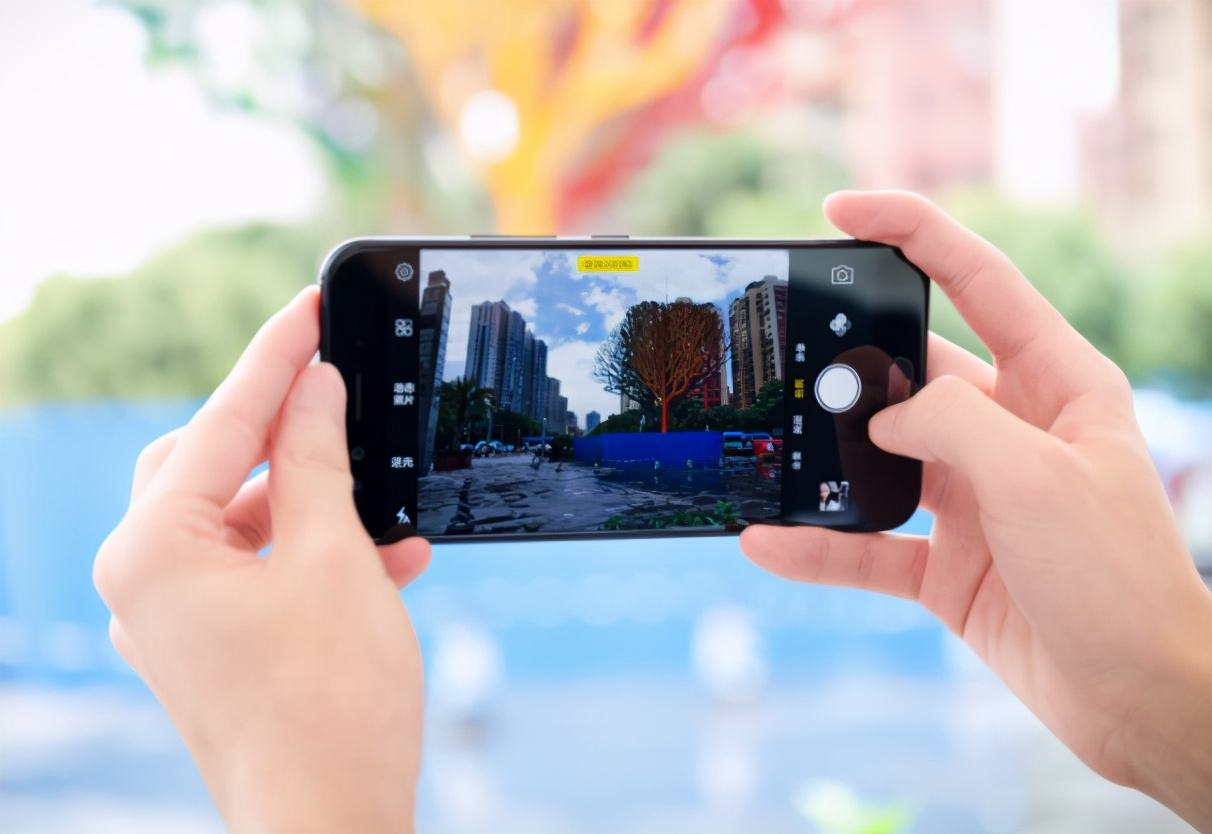taking photos: (84, 180, 1198, 818)
